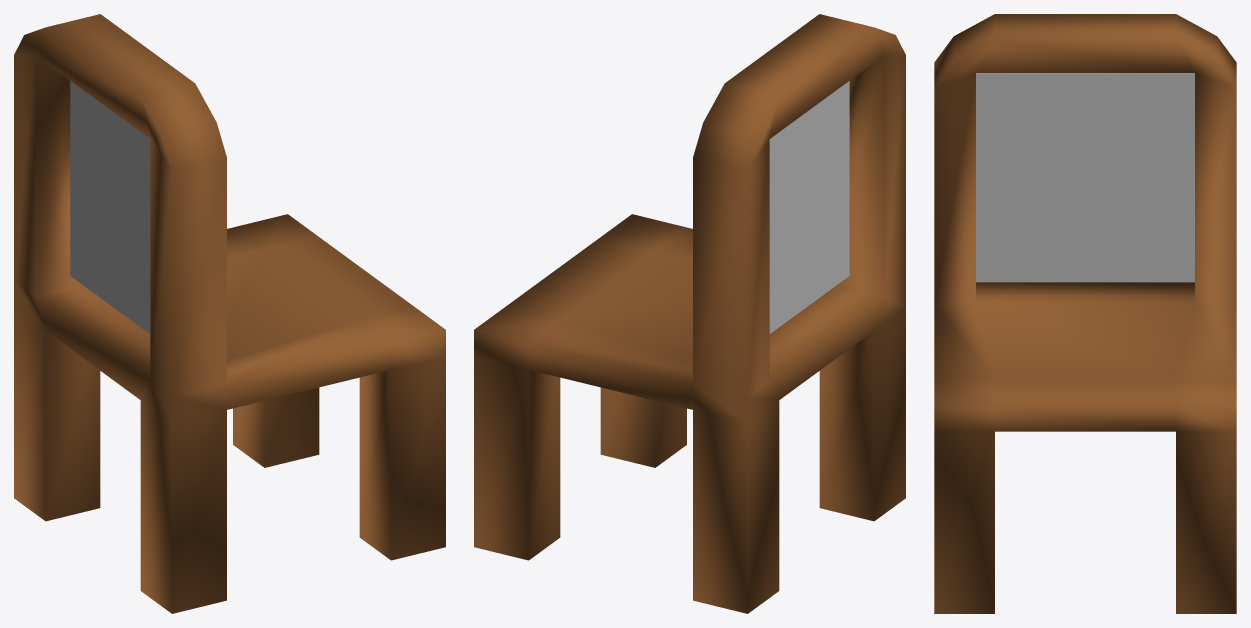
File: Building.gltf
3 views of the same model, side by side, from view 1: azimuth 30°, elevation 25°; view 2: azimuth 150°, elevation 25°; view 3: azimuth 270°, elevation 25° (orthographic). The views are drawn at different scales.
Parts seen in each view (by area): view 1: chair.004; view 2: chair.004; view 3: chair.004.
Boxes of the visible parts, bbox=[...] form: chair.004: bbox=[14, 14, 445, 613]; chair.004: bbox=[474, 14, 905, 613]; chair.004: bbox=[934, 14, 1236, 613].
Bounding box in the file's own units: 2.52 × 4.35 × 2.52.
